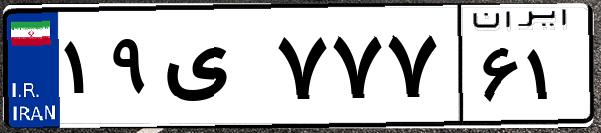1: (57, 26, 110, 100), (525, 38, 570, 115)
6: (475, 38, 525, 113)
7: (270, 28, 330, 110), (385, 28, 445, 110), (330, 28, 385, 110)
9: (110, 28, 158, 98)
ی: (158, 20, 270, 120)
